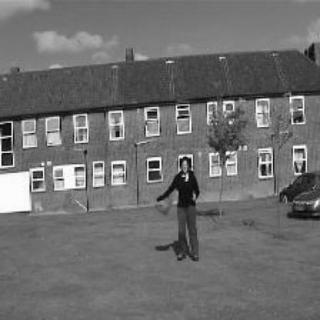other: (150, 193, 178, 213)
